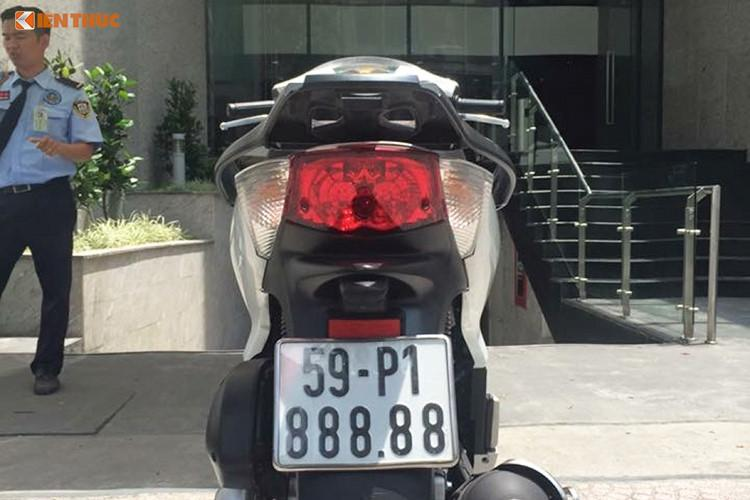numplate: (271, 330, 459, 470)
